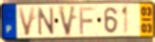1: (121, 4, 130, 36)
6: (103, 6, 120, 35)
F: (78, 6, 96, 36)
N: (36, 6, 56, 37)
V: (57, 5, 78, 38), (16, 6, 37, 38)
